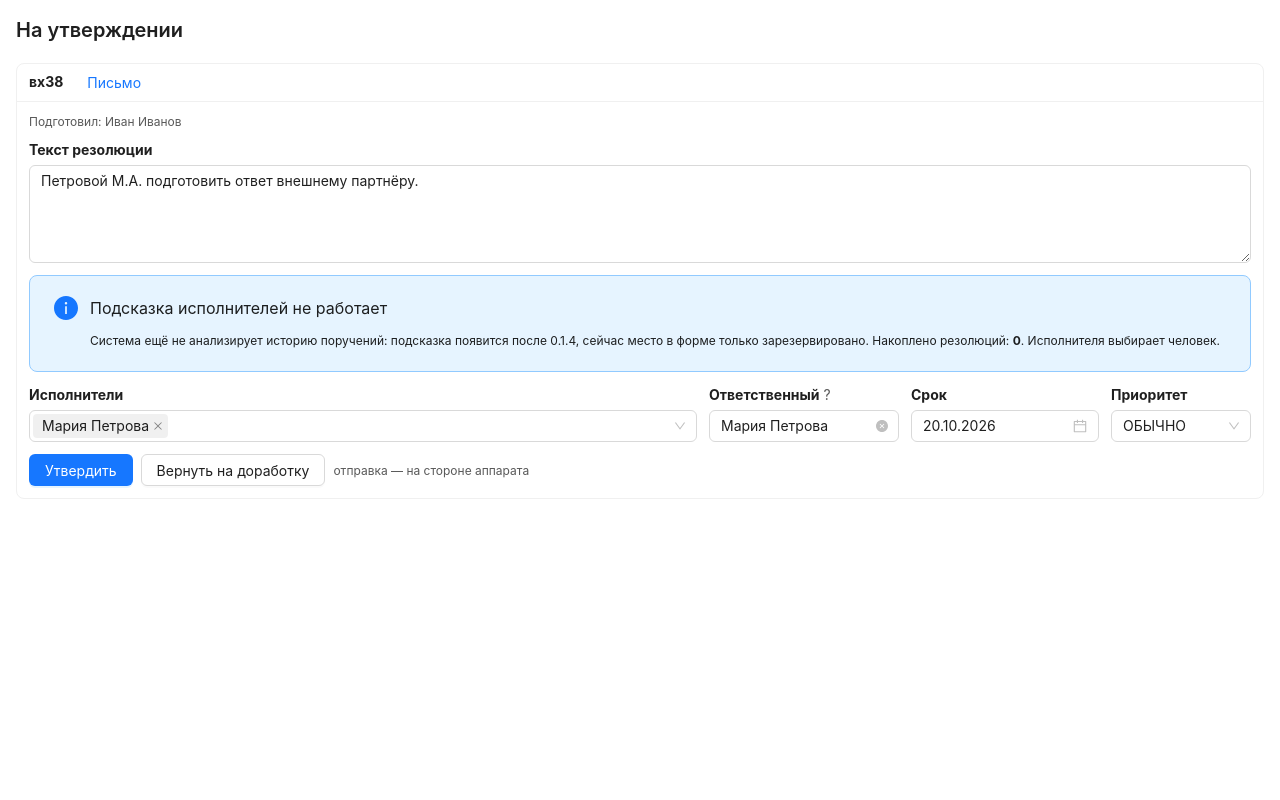
ApprovalList: утверждение спрашивает подтверждение › «Утвердить» сначала показывает, что уйдёт, и не отправляет запрос
Click the button "Утвердить" at point(81, 470), box x1=29 y1=454 x2=133 y2=486
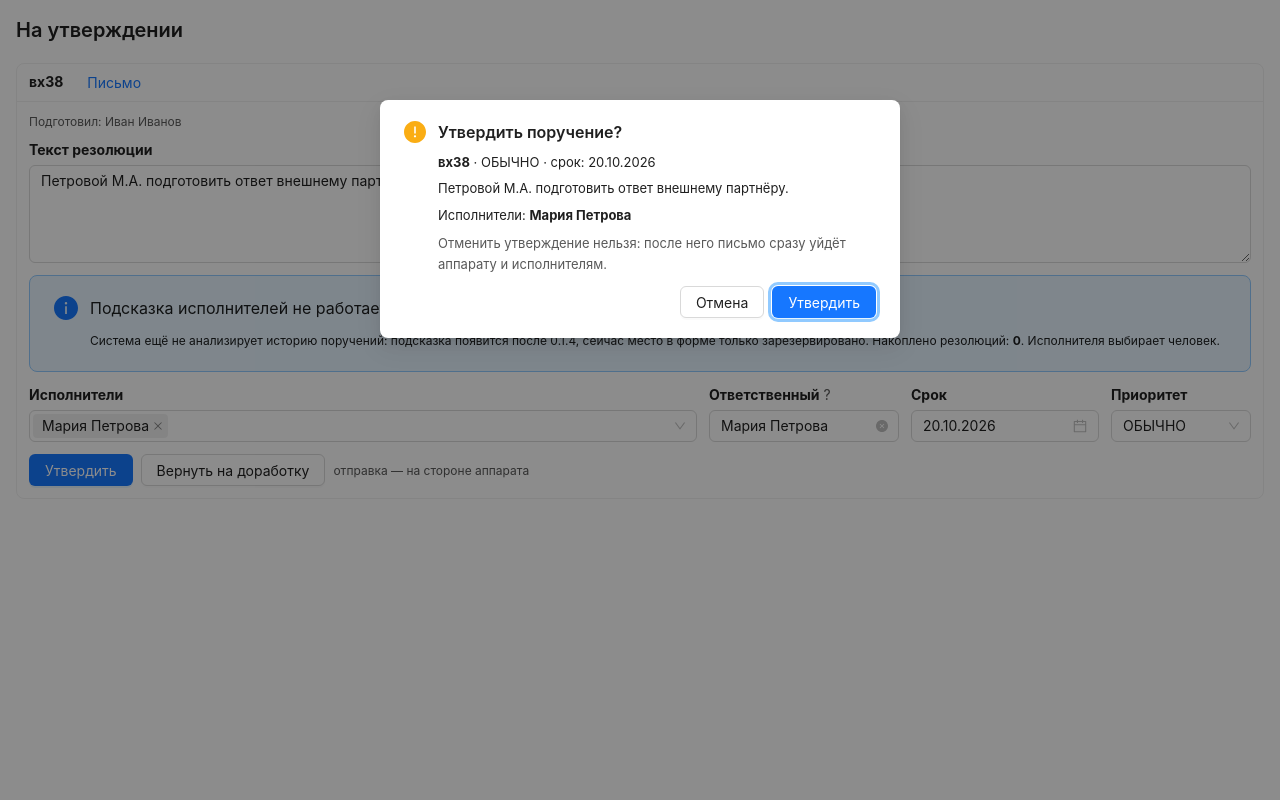
Check: the dialog shows "Утвердить поручение", box x1=438 y1=122 x2=622 y2=142
Check: the dialog shows "Петровой М.А. подготовить ответ внешнему партнёру.", box x1=438 y1=180 x2=789 y2=196
Check: the dialog shows "Мария Петрова", box x1=530 y1=207 x2=631 y2=223
